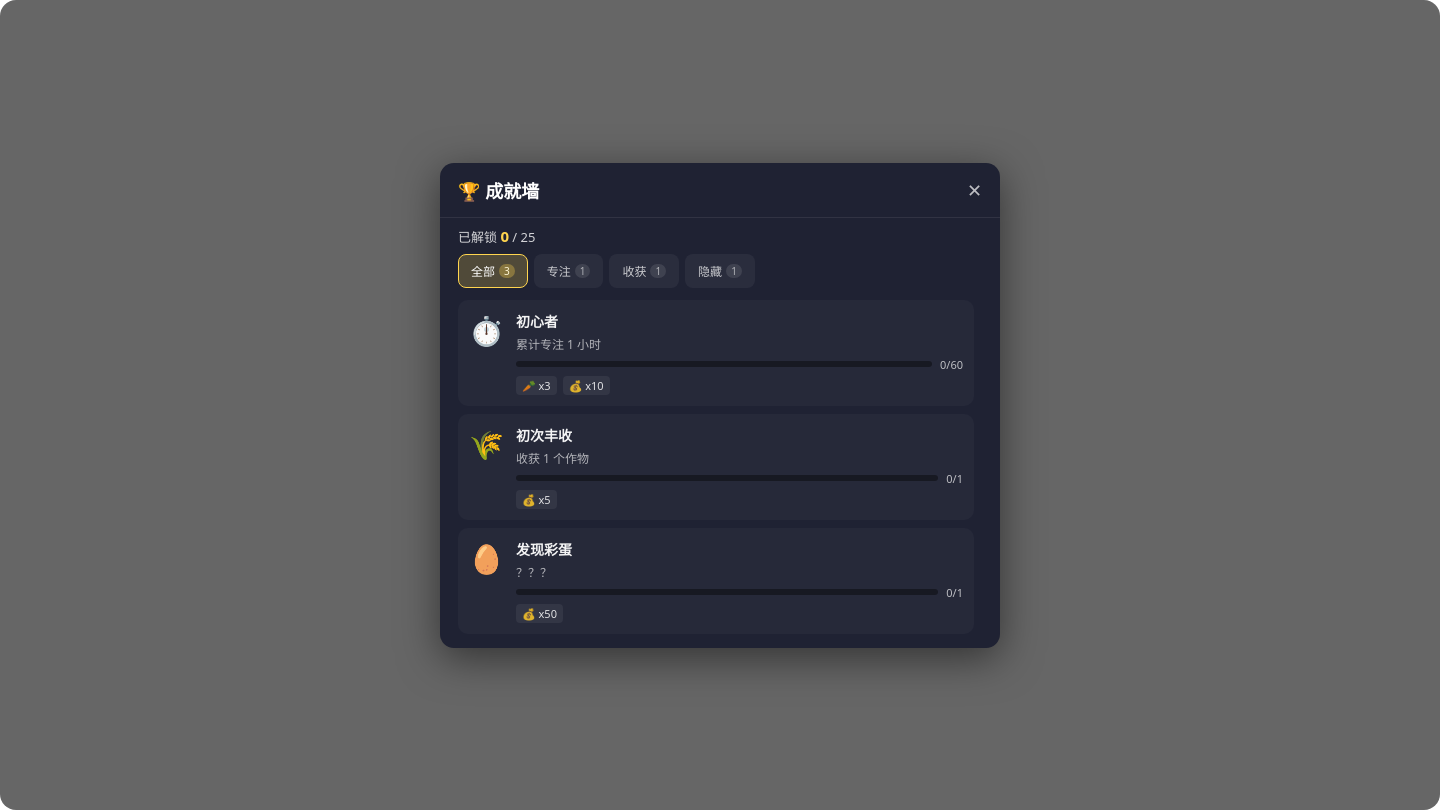
Test case: GardenAchievement.vue › 『focus』分类应只显示 focus 类成就
What coordinates should you click on to do the following:
click the button with class "achievement-tab" showing "专注"
I would click on:
 (569, 270)
Its box is [534,254,603,288].
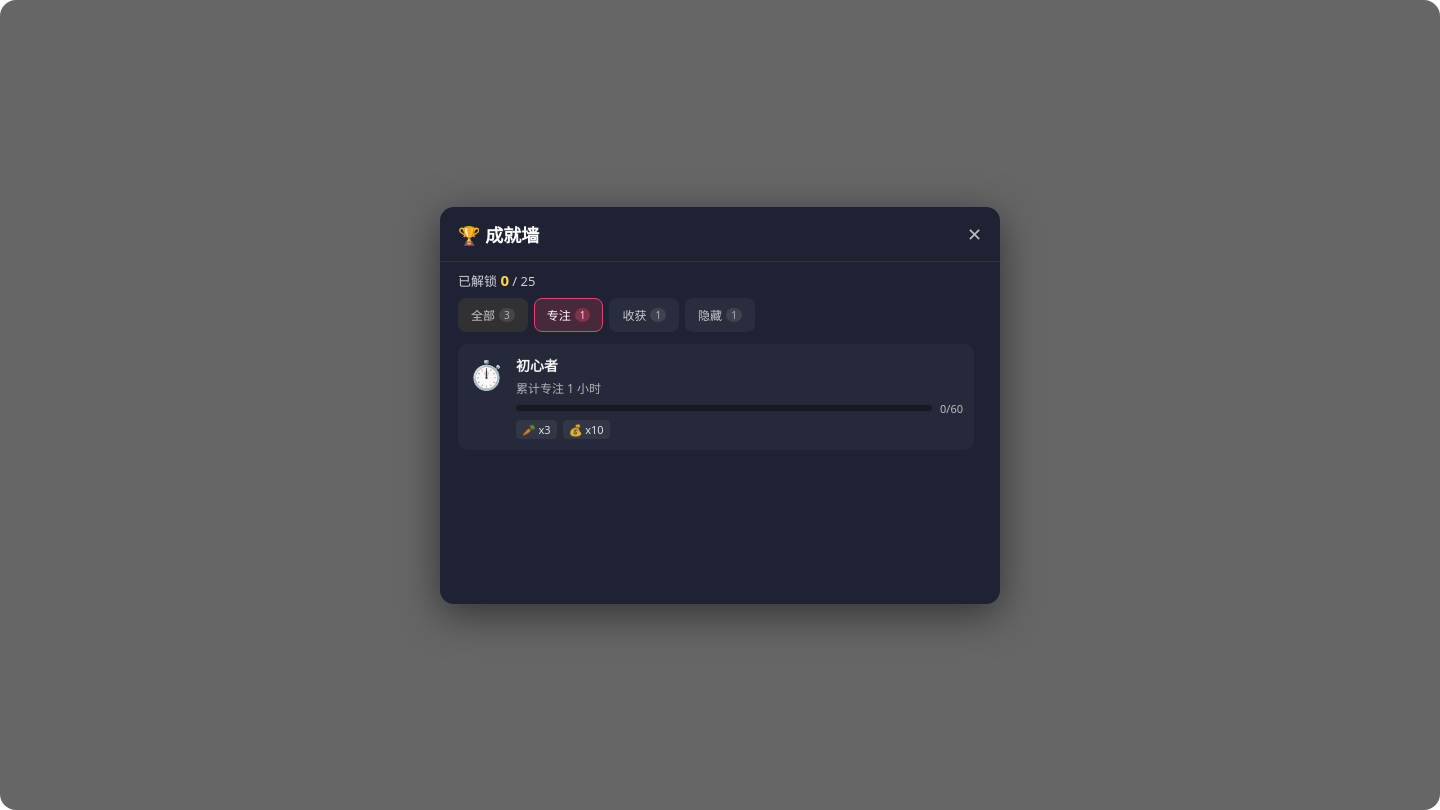
Expected: the text with class "achievement-item__name" reads "初心者", [516,356,558,374]
Now the number of elements with class "achievement-item" is 1, box [458,344,974,450]
